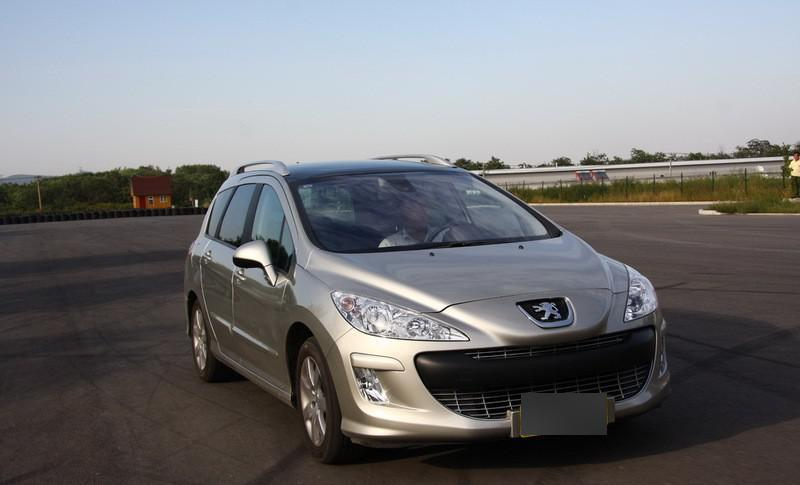Wagon: (182, 151, 674, 467)
